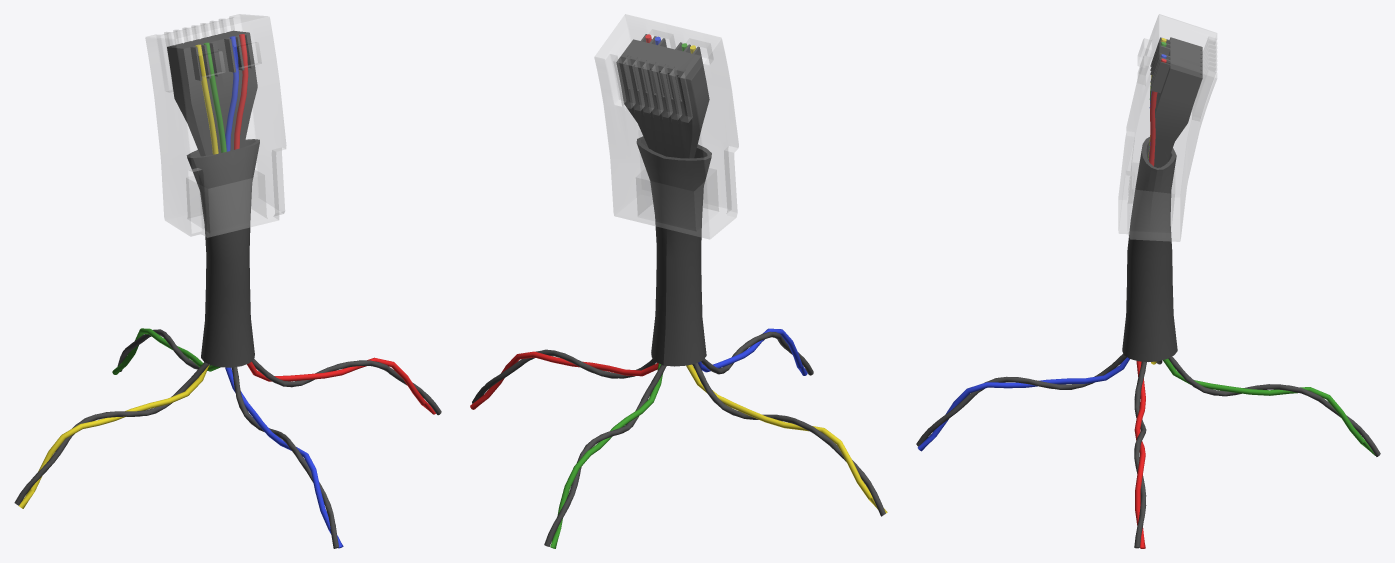
File: virus.gltf
3 renders of one model, left to right at view 1: azimuth 30°, elevation 25°; view 2: azimuth 150°, elevation 25°; view 3: azimuth 270°, elevation 25°, orthographic. The views are drawn at different scales.
Parts seen in each view (by area): view 1: Mesh_1.007, Mesh_2.007, Mesh_5.005, Mesh_4.006, Mesh_0.009, Mesh_3.006; view 2: Mesh_1.007, Mesh_2.007, Mesh_5.005, Mesh_4.006, Mesh_3.006, Mesh_0.009; view 3: Mesh_2.007, Mesh_1.007, Mesh_4.006, Mesh_3.006, Mesh_0.009.
Boxes of the visible parts, x1=… form: Mesh_1.007: x1=145, y1=14, x2=286, y2=237; Mesh_2.007: x1=14, y1=30, x2=441, y2=548; Mesh_5.005: x1=19, y1=44, x2=218, y2=508; Mesh_4.006: x1=234, y1=34, x2=435, y2=414; Mesh_0.009: x1=225, y1=36, x2=343, y2=548; Mesh_3.006: x1=112, y1=42, x2=226, y2=374; Mesh_1.007: x1=594, y1=14, x2=738, y2=239; Mesh_2.007: x1=472, y1=34, x2=885, y2=546; Mesh_5.005: x1=686, y1=45, x2=887, y2=513; Mesh_4.006: x1=470, y1=34, x2=658, y2=409; Mesh_3.006: x1=550, y1=43, x2=687, y2=548; Mesh_0.009: x1=655, y1=36, x2=807, y2=375; Mesh_2.007: x1=916, y1=37, x2=1380, y2=548; Mesh_1.007: x1=1118, y1=14, x2=1216, y2=241; Mesh_4.006: x1=1134, y1=58, x2=1166, y2=548; Mesh_3.006: x1=1148, y1=42, x2=1375, y2=455; Mesh_0.009: x1=917, y1=54, x2=1166, y2=451.
Bounding box in the file's own units: 4.11 × 4.08 × 4.11.
